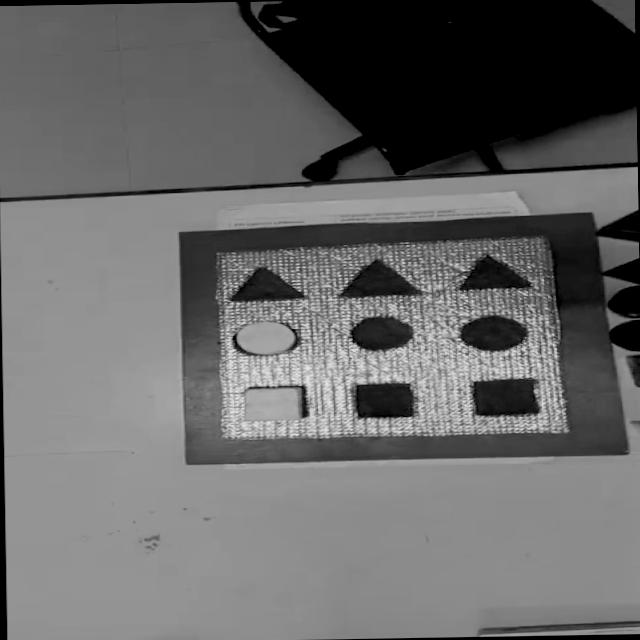bcircle: (606, 318, 640, 353)
btriangle: (600, 256, 640, 286)
mtcircle: (456, 314, 530, 352), (349, 316, 417, 354)
mtcube: (471, 378, 541, 418), (352, 380, 417, 420)
mttriangle: (338, 258, 422, 299), (455, 252, 533, 292), (226, 266, 304, 304)
rcircle: (605, 284, 640, 320)
wb: (212, 238, 569, 442)
ycircle: (229, 319, 301, 358)
ycube: (242, 386, 305, 422)
